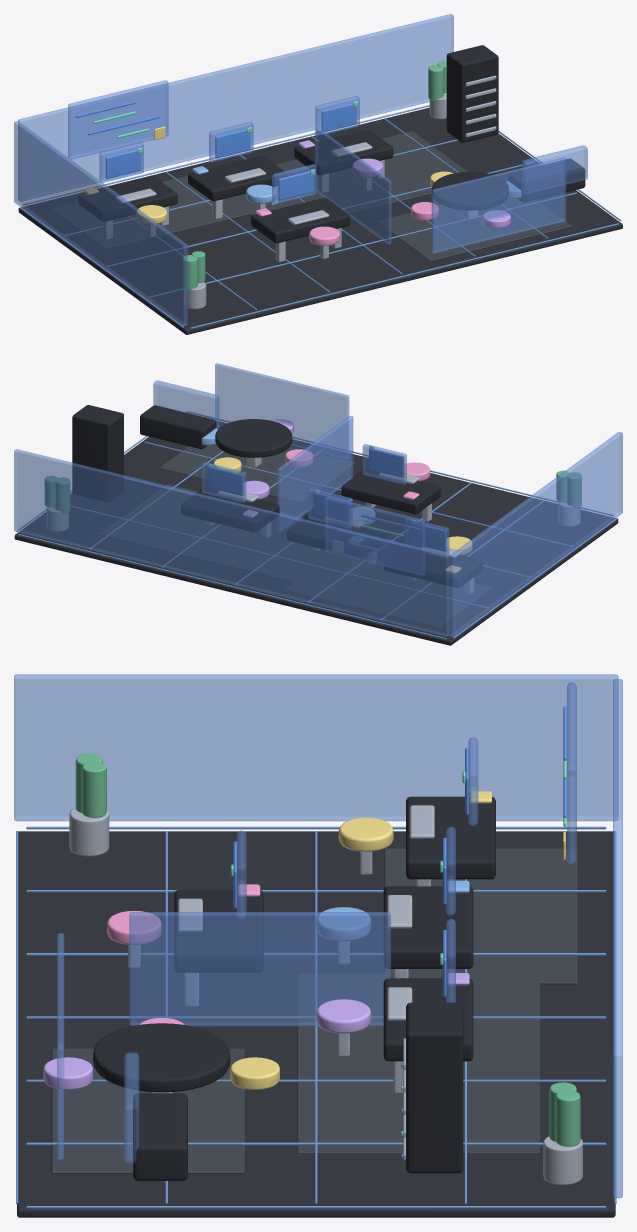
Rendered from dipeen-office-scene.glb.
3 views of the same model, one above another, from view 1: azimuth 30°, elevation 25°; view 2: azimuth 150°, elevation 25°; view 3: azimuth 270°, elevation 25° (orthographic). The views are drawn at different scales.
Parts seen in each view (by area): view 1: dipeen_office_floor_base, dipeen_glass_wall_north, dipeen_glass_wall_west, dipeen_glass_meeting_back, dipeen_office_floor_build_zone, dipeen_office_floor_meeting_zone, dipeen_command_wall_panel, dipeen_glass_room_split, dipeen_office_floor_command_zone, dipeen_server_rack_body, dipeen_meeting_table_top, dipeen_station_qa_desk (+26 smaller); view 2: dipeen_glass_wall_north, dipeen_office_floor_base, dipeen_glass_wall_west, dipeen_office_floor_build_zone, dipeen_glass_meeting_back, dipeen_office_floor_command_zone, dipeen_command_wall_panel, dipeen_glass_room_split, dipeen_server_rack_body, dipeen_office_floor_meeting_zone, dipeen_station_qa_desk, dipeen_station_be_desk (+23 smaller); view 3: dipeen_office_floor_base, dipeen_glass_wall_west, dipeen_glass_room_split, dipeen_office_floor_build_zone, dipeen_office_floor_command_zone, dipeen_office_floor_meeting_zone, dipeen_server_rack_body, dipeen_meeting_table_top, dipeen_station_qa_desk, dipeen_station_pm_desk, dipeen_station_fe_desk, dipeen_glass_wall_north (+33 smaller).
Boxes of the visible parts, x1=… form: dipeen_office_floor_base: x1=18, y1=107, x2=622, y2=334; dipeen_glass_wall_north: x1=18, y1=14, x2=453, y2=201; dipeen_glass_wall_west: x1=14, y1=121, x2=187, y2=326; dipeen_glass_meeting_back: x1=431, y1=157, x2=566, y2=253; dipeen_office_floor_build_zone: x1=229, y1=131, x2=467, y2=215; dipeen_office_floor_meeting_zone: x1=376, y1=197, x2=572, y2=261; dipeen_command_wall_panel: x1=68, y1=80, x2=168, y2=159; dipeen_glass_room_split: x1=315, y1=128, x2=391, y2=244; dipeen_office_floor_command_zone: x1=52, y1=175, x2=249, y2=248; dipeen_server_rack_body: x1=446, y1=45, x2=498, y2=142; dipeen_meeting_table_top: x1=432, y1=171, x2=508, y2=210; dipeen_station_qa_desk: x1=251, y1=198, x2=350, y2=243; dipeen_glass_wall_north: x1=14, y1=449, x2=449, y2=636; dipeen_office_floor_base: x1=14, y1=421, x2=618, y2=645; dipeen_glass_wall_west: x1=449, y1=432, x2=622, y2=636; dipeen_office_floor_build_zone: x1=99, y1=484, x2=341, y2=583; dipeen_glass_meeting_back: x1=215, y1=363, x2=349, y2=458; dipeen_office_floor_command_zone: x1=284, y1=556, x2=492, y2=627; dipeen_command_wall_panel: x1=325, y1=496, x2=425, y2=575; dipeen_glass_room_split: x1=277, y1=416, x2=353, y2=531; dipeen_server_rack_body: x1=72, y1=405, x2=123, y2=501; dipeen_office_floor_meeting_zone: x1=159, y1=444, x2=355, y2=502; dipeen_station_qa_desk: x1=341, y1=469, x2=440, y2=514; dipeen_station_be_desk: x1=181, y1=487, x2=279, y2=531; dipeen_office_floor_base: x1=17, y1=831, x2=615, y2=1217; dipeen_glass_wall_west: x1=14, y1=674, x2=618, y2=821; dipeen_glass_room_split: x1=129, y1=912, x2=390, y2=1026; dipeen_office_floor_build_zone: x1=297, y1=973, x2=539, y2=1153; dipeen_office_floor_command_zone: x1=384, y1=848, x2=577, y2=984; dipeen_office_floor_meeting_zone: x1=51, y1=1048, x2=244, y2=1173; dipeen_server_rack_body: x1=406, y1=1002, x2=463, y2=1173; dipeen_meeting_table_top: x1=93, y1=1023, x2=230, y2=1092; dipeen_station_qa_desk: x1=174, y1=890, x2=263, y2=972; dipeen_station_pm_desk: x1=406, y1=796, x2=495, y2=879; dipeen_station_fe_desk: x1=383, y1=886, x2=473, y2=968; dipeen_glass_wall_north: x1=613, y1=679, x2=622, y2=1198.
Size of the model in its own units: 7.27 by 1.72 by 4.89.
